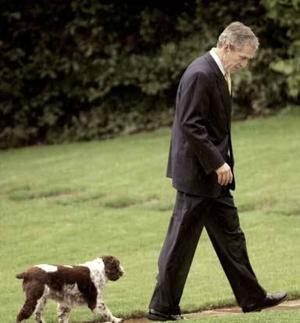person: (148, 20, 288, 320)
